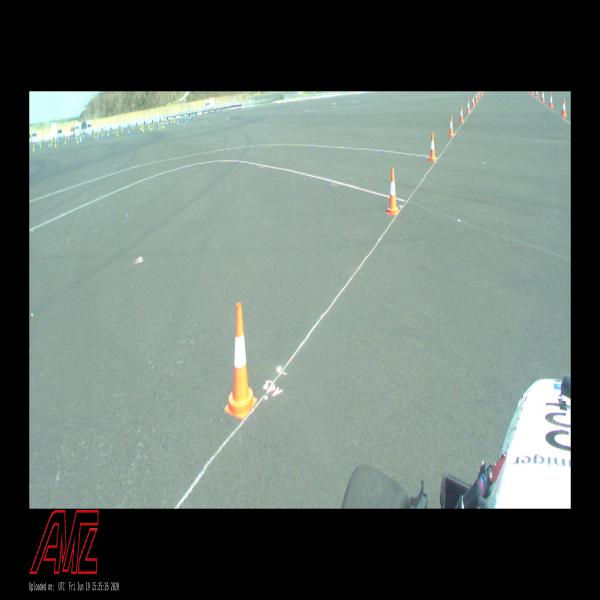orange_cone: (224, 302, 257, 418), (387, 168, 399, 215), (429, 133, 437, 161), (561, 98, 567, 117), (449, 116, 454, 136), (550, 92, 554, 108), (460, 106, 464, 122), (467, 99, 470, 113), (541, 92, 545, 102), (472, 95, 475, 107), (475, 92, 478, 102), (536, 91, 538, 97), (478, 92, 480, 98)
